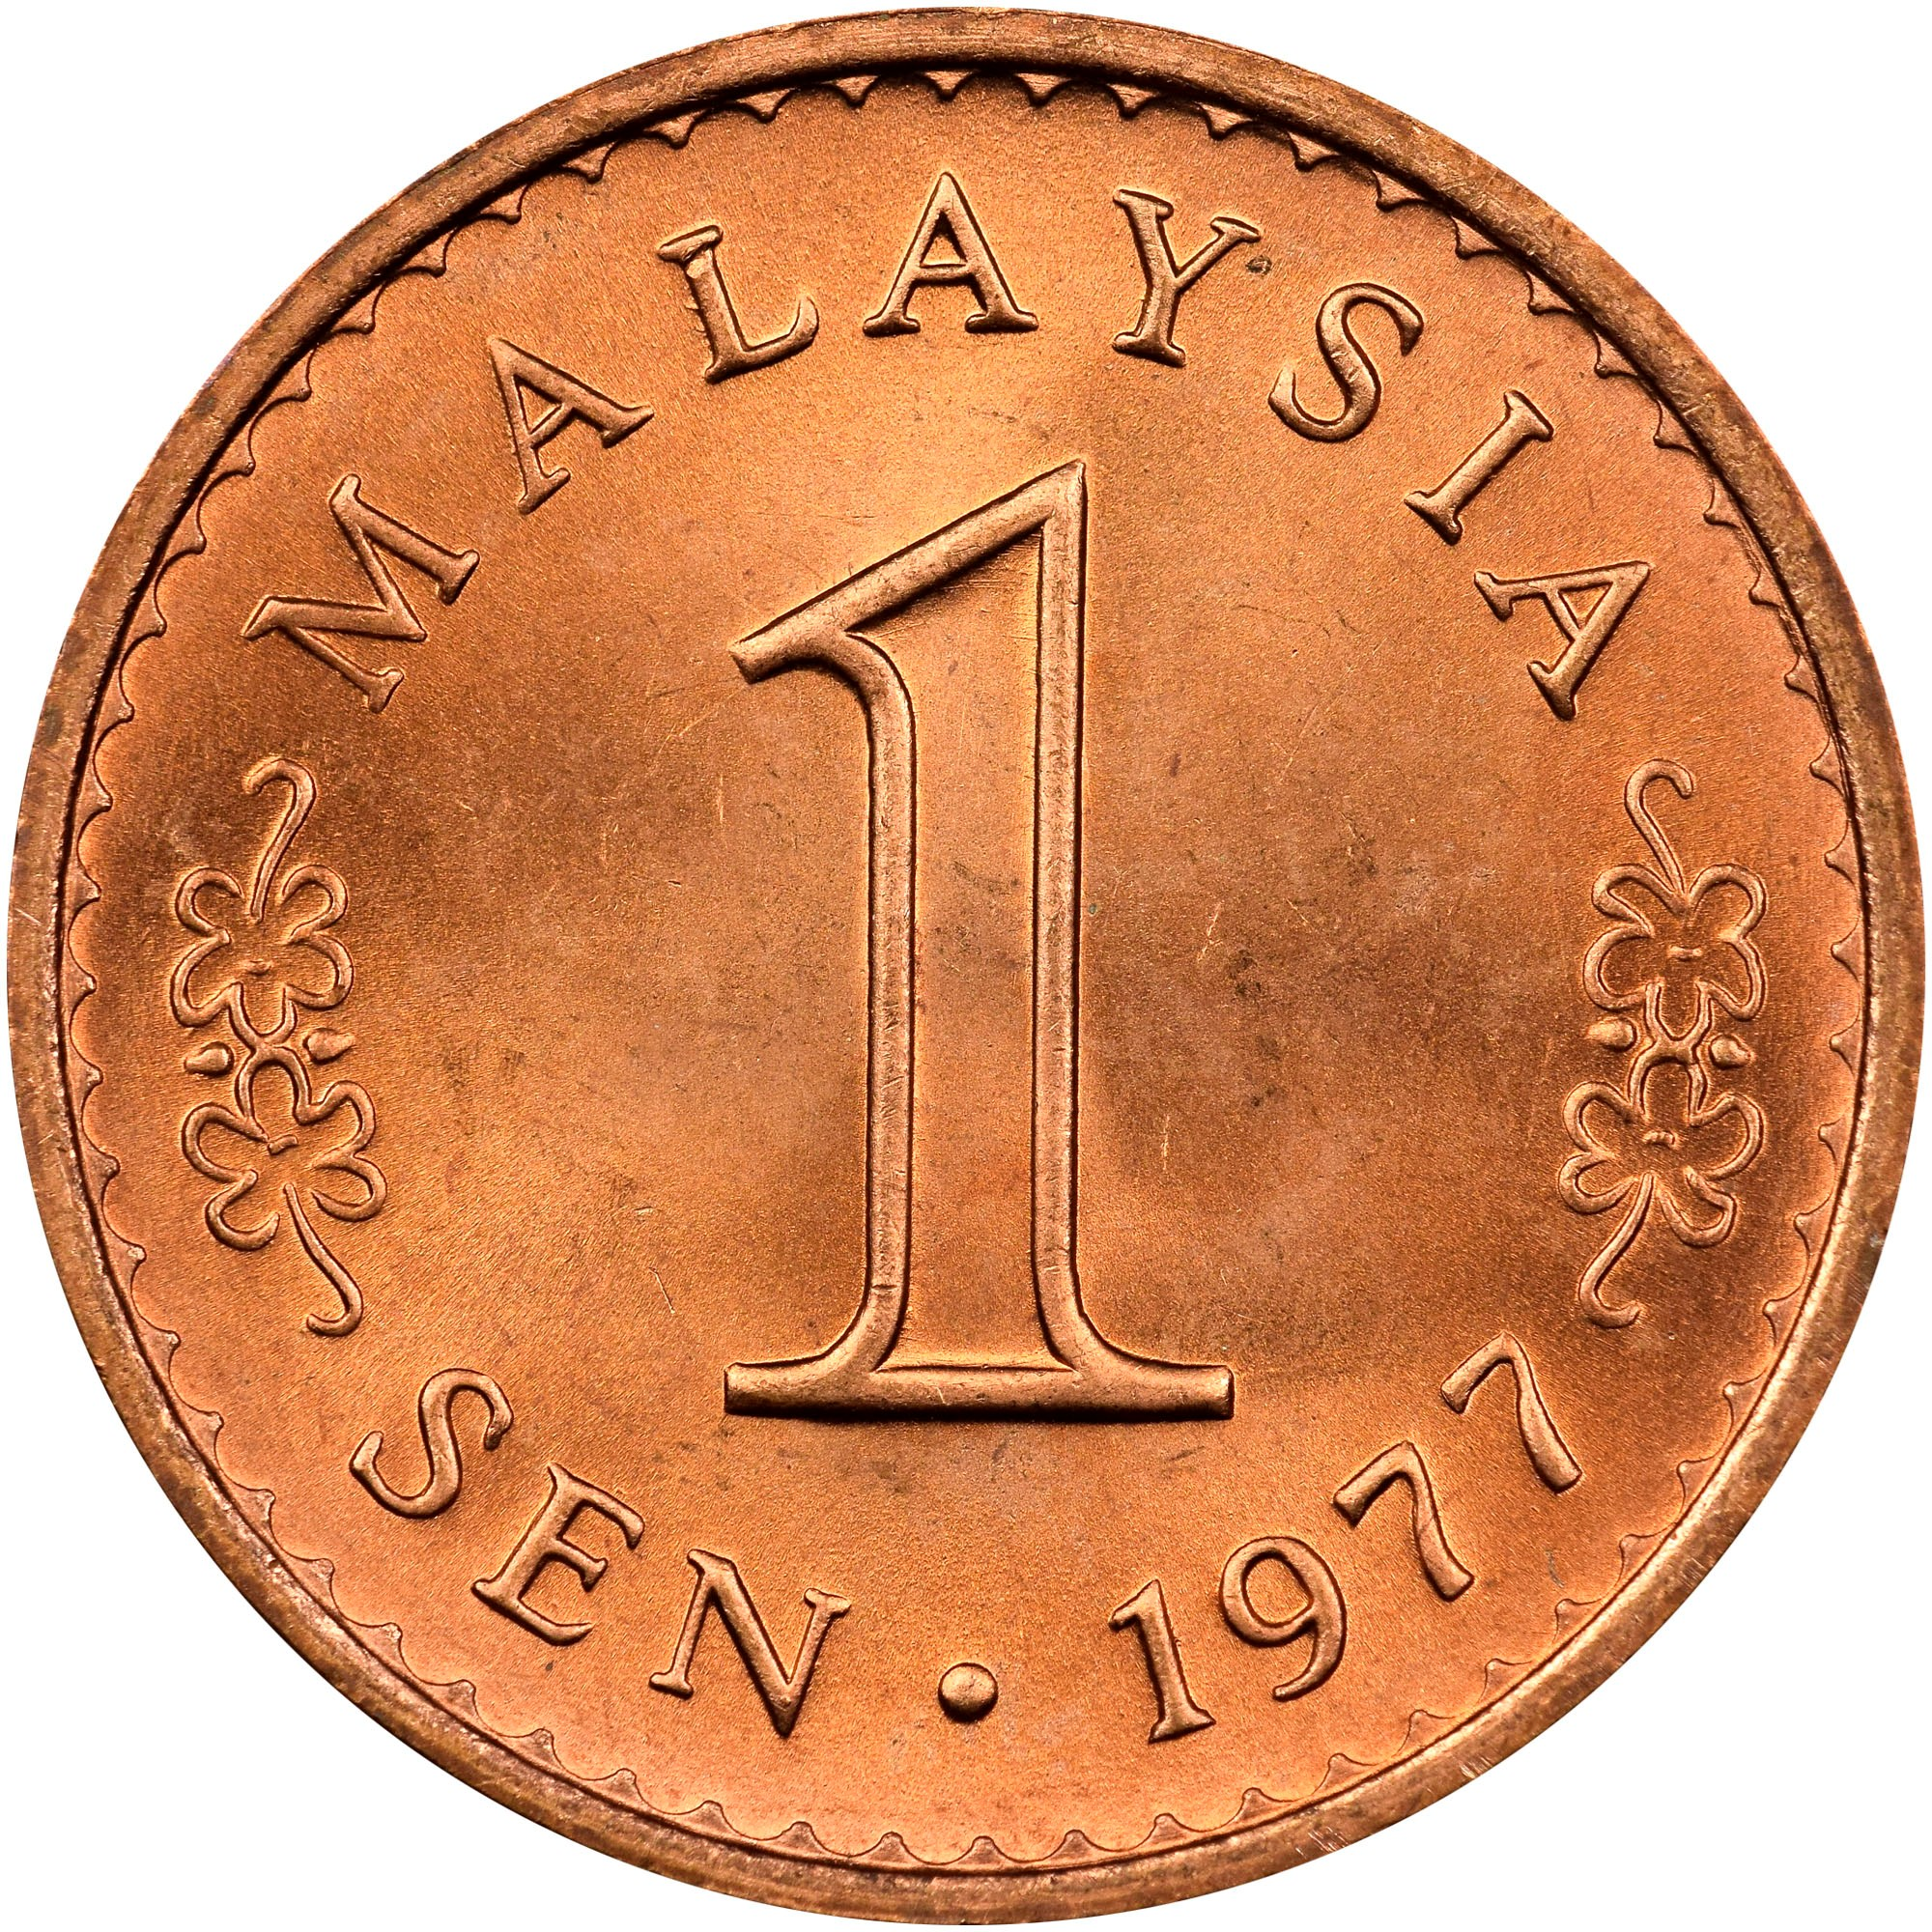1c: (7, 11, 1927, 1927)
